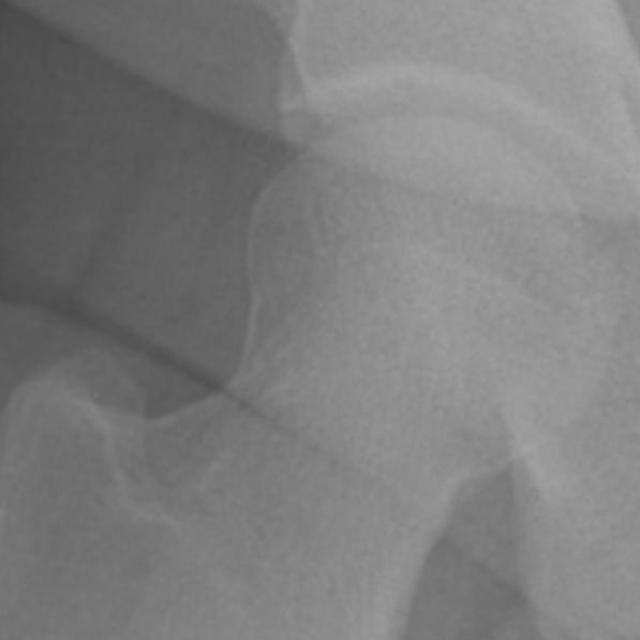Fitted_femural_head: (372, 119, 432, 372)
